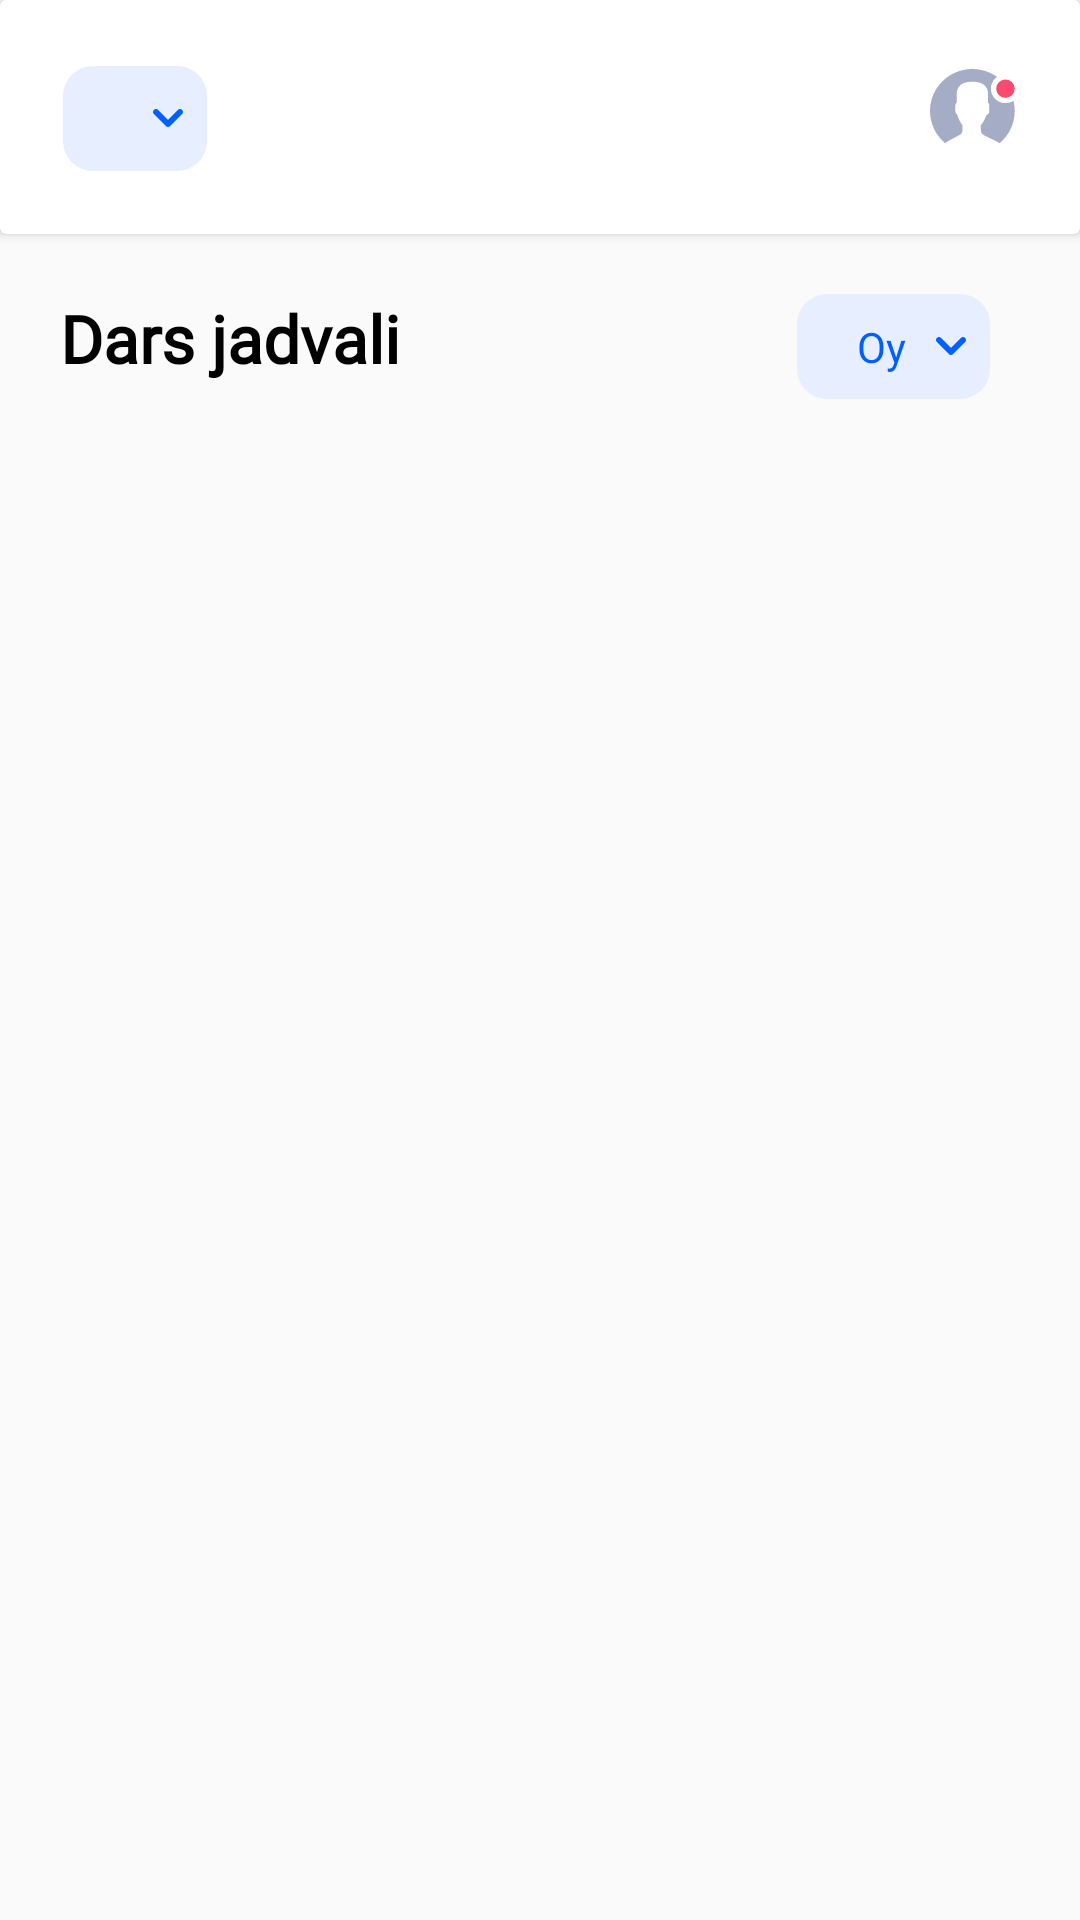

Icons on this 1080x1920 Android screen, each with its box as (x1, y1, x2, y2):
peoplee: (930, 69, 1015, 143)
